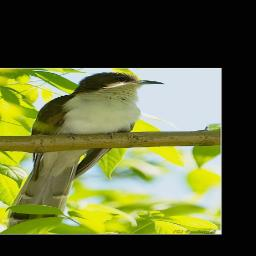Cuckoo: (5, 72, 165, 231)
